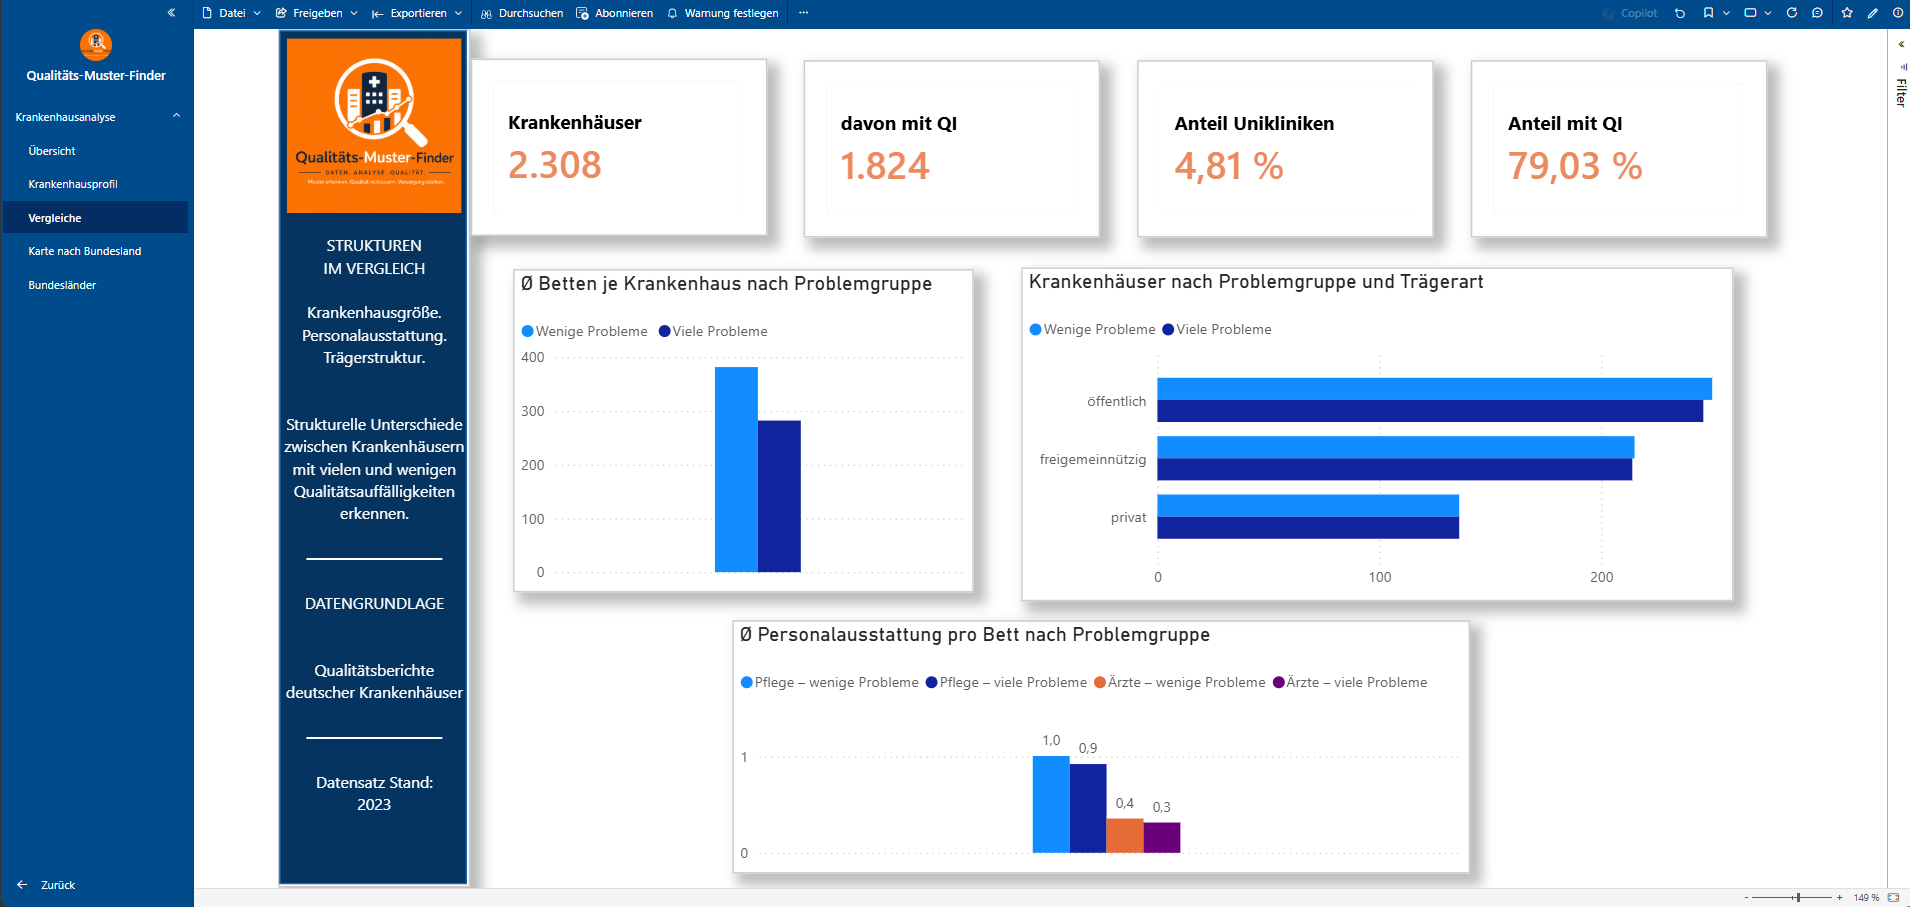

Layout of this report page (visuals, bound fields, positions):
{"tool":"powerbi","page":{"name":"Vergleiche","canvas":[1280,720],"ordinal":4},"visuals":[{"type":"shape","box":[0,0,161.1,720],"z":0},{"type":"cardVisual","fields":{"Data":["Berechnungen.Anzahl Krankenhäuser Anzeige"]},"box":[161.6,25,249.1,149.1],"z":1000},{"type":"image","box":[0,7.9,161.1,146.5],"z":2000},{"type":"textbox","box":[0,166.4,161.6,553],"z":3000},{"type":"cardVisual","fields":{"Data":["Berechnungen.Krankenhäuser mit QI Anzeige"]},"box":[441.1,26,249.1,149.1],"z":4000},{"type":"cardVisual","fields":{"Data":["Berechnungen.Anteil Unikliniken an Krankenhäusern"]},"box":[720.6,26,249.1,149.1],"z":5000},{"type":"clusteredColumnChart","title":"Ø Personalausstattung pro Bett nach Problemgruppe","fields":{"Y":["Berechnungen.Ø Pflegekräfte pro Bett - wenige Probleme 2023","Berechnungen.Ø Pflegekräfte pro Bett - viele Probleme 2023","Berechnungen.Ø Ärzte pro Bett - wenige Probleme 2023","Berechnungen.Ø Ärzte pro Bett - viele Probleme 2023"]},"box":[381,495.7,619,212.1],"z":7000},{"type":"clusteredColumnChart","title":"Ø Betten je Krankenhaus nach Problemgruppe","fields":{"Y":["Berechnungen.Ø Betten - wenige Probleme 2023","Berechnungen.Ø Betten - viele Probleme 2023"]},"box":[197.3,201,386,271.3],"z":8000},{"type":"clusteredBarChart","title":"Krankenhäuser nach Problemgruppe und Trägerart","fields":{"Category":["SO.KH.Träger.Art"],"Y":["Berechnungen.KH wenige Probleme","Berechnungen.KH viele Probleme"]},"box":[623.5,199.8,597.3,280.2],"z":9000},{"type":"cardVisual","fields":{"Data":["Berechnungen.Anteil KH mit QI"]},"box":[1000.3,26,249.1,149.1],"z":9001}]}

Visuals, with their boxes on the page's 1280x720 design canvas (x1, y1, x2, y2). These are canvas units, not pixel positions in the 1910x907 screenshot, which may show the page scaled, cropped or inside an application window:
shape: {"left": 0, "top": 0, "right": 161, "bottom": 720}
cardVisual - Berechnungen.Anzahl Krankenhäuser Anzeige: {"left": 162, "top": 25, "right": 411, "bottom": 174}
image: {"left": 0, "top": 8, "right": 161, "bottom": 154}
textbox: {"left": 0, "top": 166, "right": 162, "bottom": 719}
cardVisual - Berechnungen.Krankenhäuser mit QI Anzeige: {"left": 441, "top": 26, "right": 690, "bottom": 175}
cardVisual - Berechnungen.Anteil Unikliniken an Krankenhäusern: {"left": 721, "top": 26, "right": 970, "bottom": 175}
"Ø Personalausstattung pro Bett nach Problemgruppe" clusteredColumnChart: {"left": 381, "top": 496, "right": 1000, "bottom": 708}
"Ø Betten je Krankenhaus nach Problemgruppe" clusteredColumnChart: {"left": 197, "top": 201, "right": 583, "bottom": 472}
"Krankenhäuser nach Problemgruppe und Trägerart" clusteredBarChart: {"left": 624, "top": 200, "right": 1221, "bottom": 480}
cardVisual - Berechnungen.Anteil KH mit QI: {"left": 1000, "top": 26, "right": 1249, "bottom": 175}
